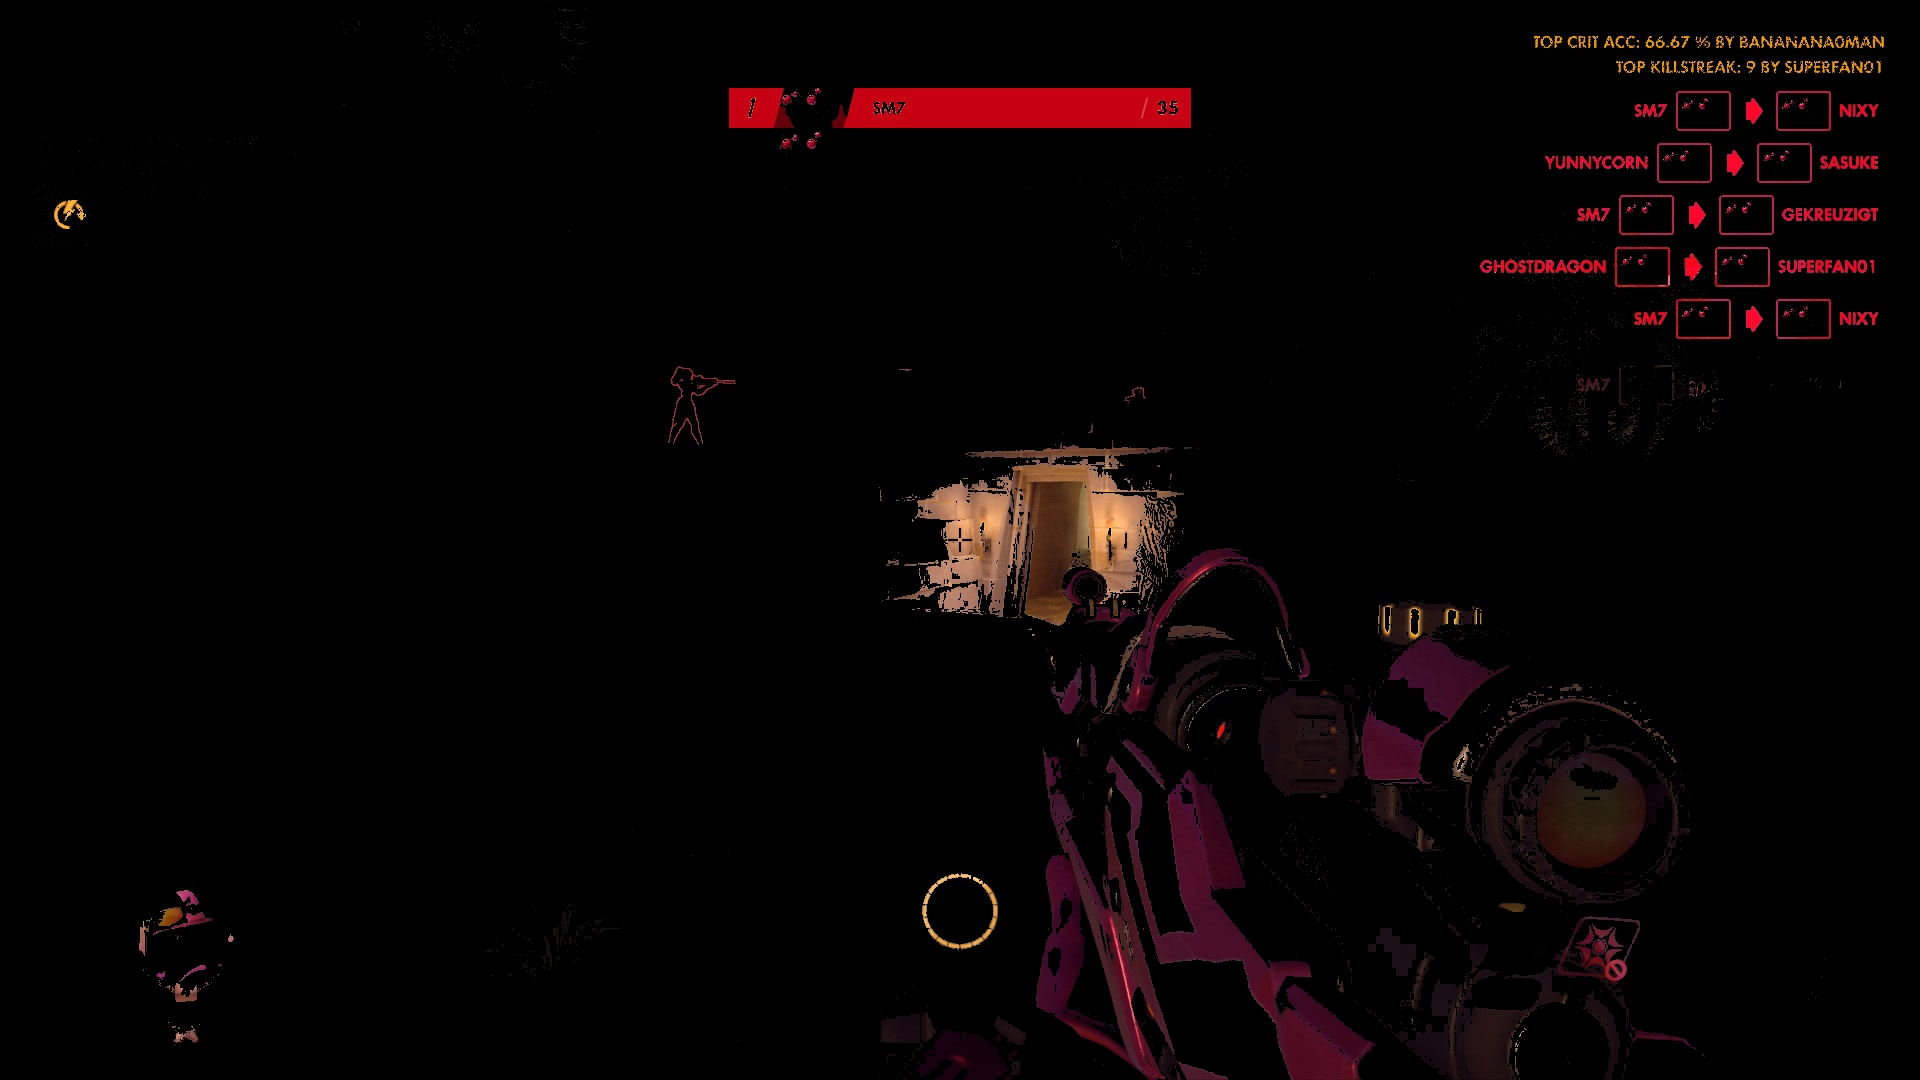widowmaker: (663, 367, 717, 447), (1124, 386, 1149, 401)
